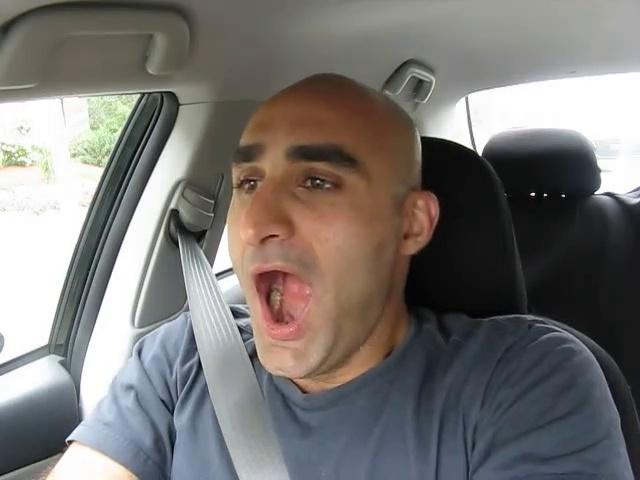open_eyeL: (222, 167, 277, 203)
open_eyeR: (283, 160, 364, 205)
yawn: (232, 246, 332, 355)
